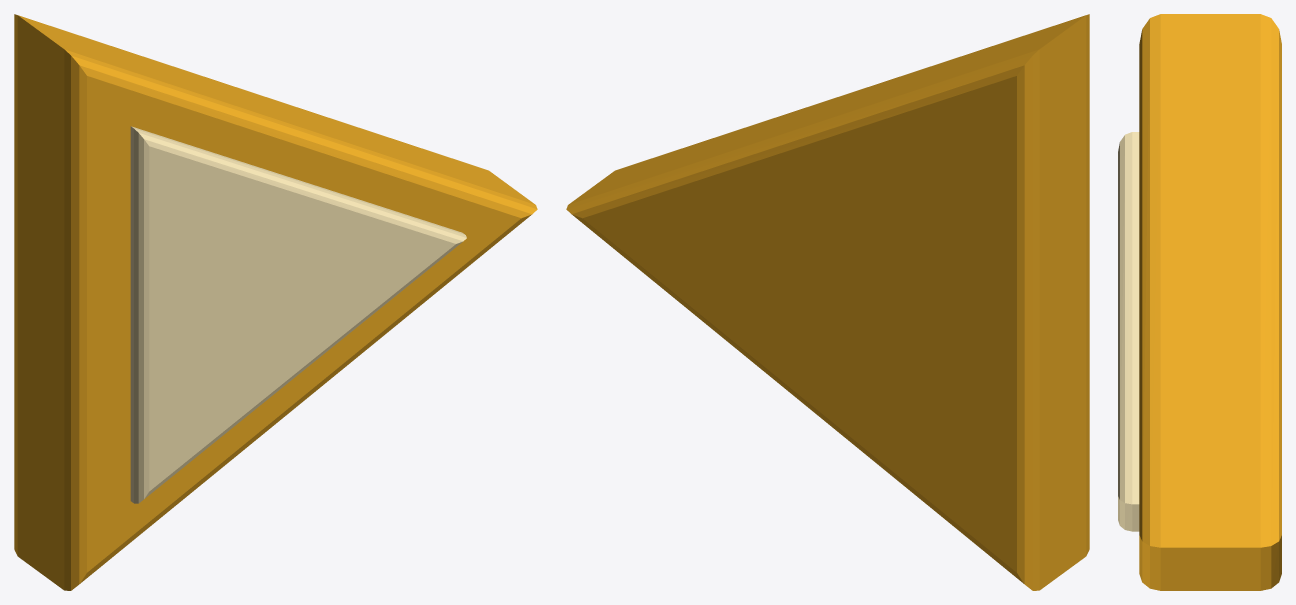
File: play.glb
3 views of the same model, side by side, from view 1: azimuth 30°, elevation 25°; view 2: azimuth 150°, elevation 25°; view 3: azimuth 270°, elevation 25° (orthographic). The views are drawn at different scales.
Visible parts, largest first — view 1: play_triangle_203; view 2: play_triangle_203; view 3: play_triangle_203.
Part boxes in pixels (left/top/right/bottom): play_triangle_203: left=14, top=14, right=537, bottom=590; play_triangle_203: left=566, top=14, right=1089, bottom=590; play_triangle_203: left=1118, top=14, right=1281, bottom=590.
Bounding box in the file's own units: 1.63 × 1.79 × 0.46.
